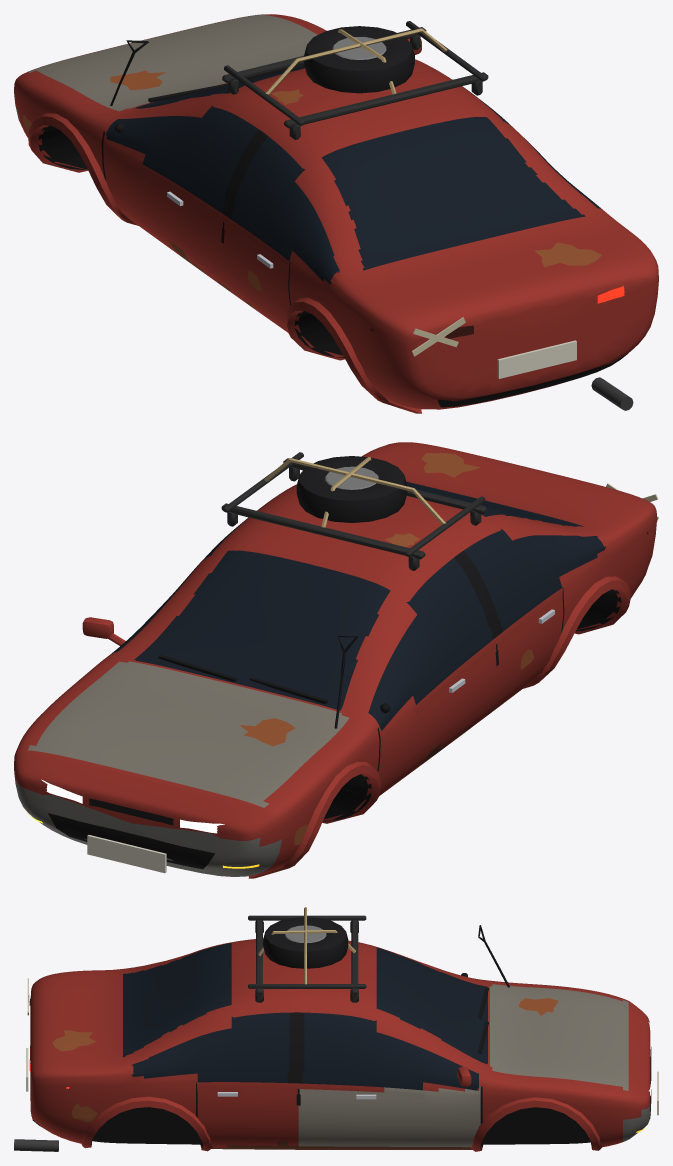
File: car_rustbucket.glb
3 views of the same model, one above another, from view 1: azimuth 30°, elevation 25°; view 2: azimuth 150°, elevation 25°; view 3: azimuth 270°, elevation 25° (orthographic). The views are drawn at different scales.
Visible parts, largest first — view 1: body, parts, lips, strip6, decal1, decal0; view 2: body, parts, lips, strip2, decal0, decal1, strip1; view 3: body, parts, lips, decal1, decal0.
Part boxes in pixels (box(x1,y1,x2,y2)): body: box(14, 14, 658, 409); parts: box(110, 21, 633, 410); lips: box(28, 113, 421, 413); strip6: box(437, 353, 628, 407); decal1: box(534, 242, 601, 267); decal0: box(110, 70, 165, 90); body: box(14, 442, 656, 876); parts: box(82, 452, 658, 873); lips: box(248, 576, 631, 878); strip2: box(48, 813, 215, 869); decal0: box(240, 718, 295, 746); decal1: box(421, 452, 479, 477); strip1: box(89, 798, 173, 825); body: box(30, 938, 650, 1149); parts: box(14, 907, 658, 1151); lips: box(81, 1096, 601, 1151); decal1: box(52, 1030, 95, 1051); decal0: box(518, 998, 557, 1015).
Size of the model in its own units: 1.93 by 1.48 by 4.47.
